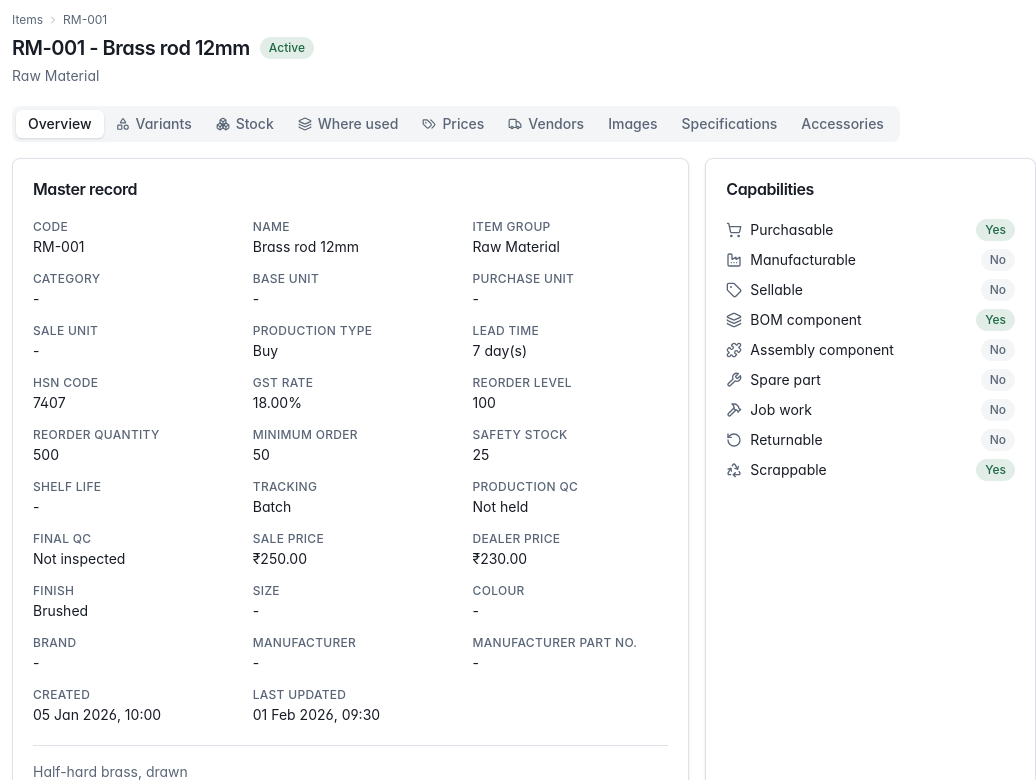
Test case: the tab panels › explains rather than queries when the BOM right is missing
Expected: the heading "RM-001 - Brass rod 12mm" is shown, [12, 34, 250, 62]
Click the tab "Where used" at (348,124), box [286, 110, 410, 138]
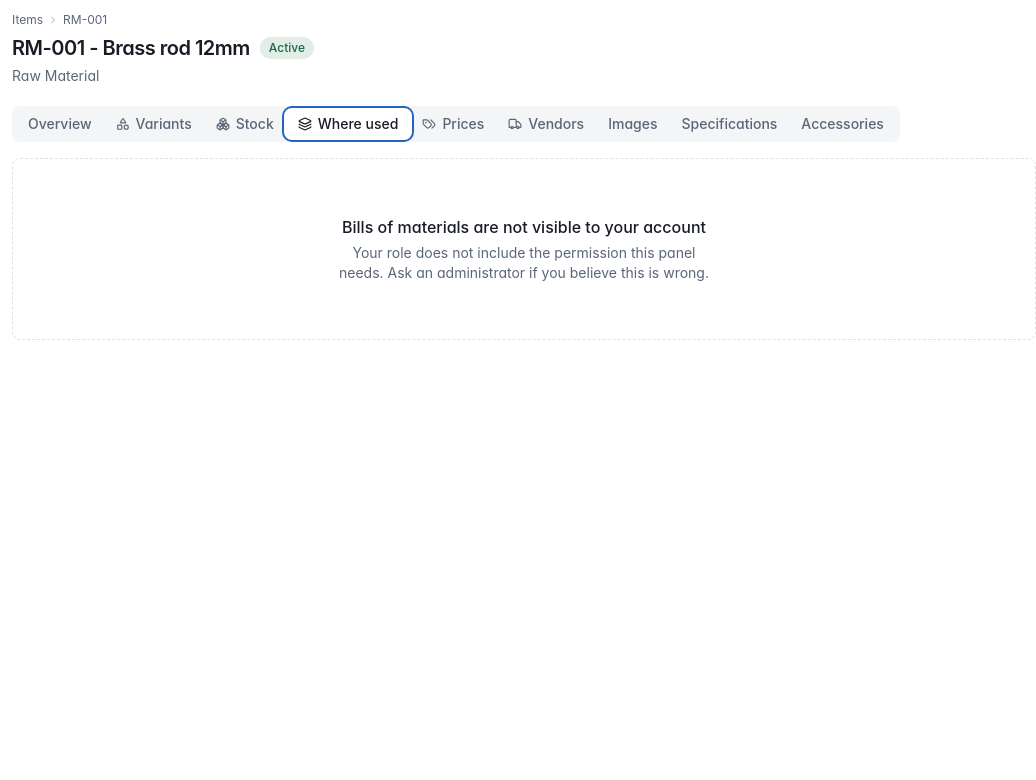
Expected: the text "Bills of materials are not visible to your account" is shown, [342, 217, 706, 237]
